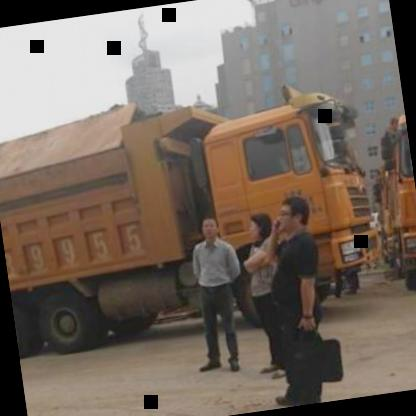head: (272, 190, 316, 237), (244, 208, 274, 245), (196, 211, 221, 240)
